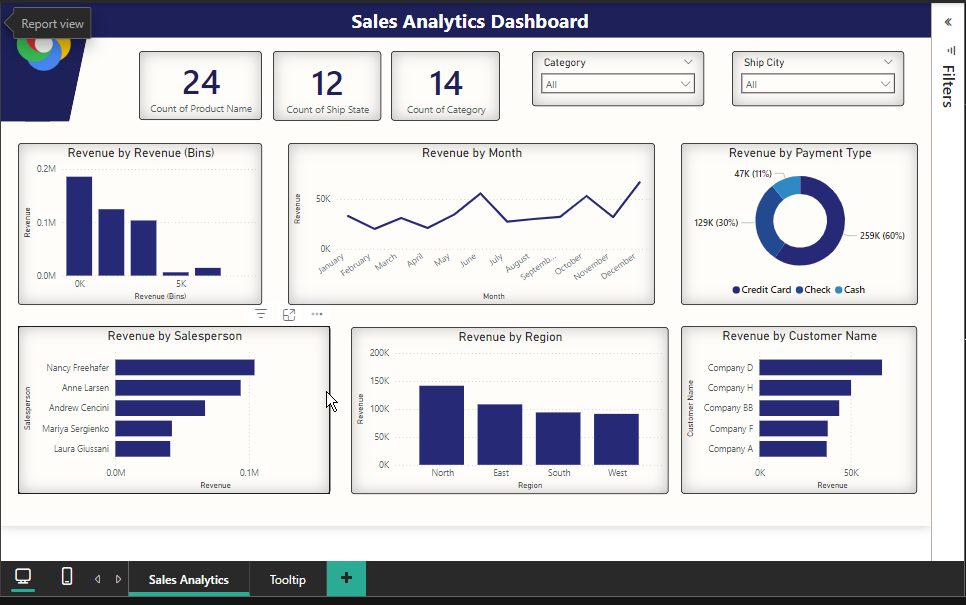

This screenshot's page, from the dashboard's own definition file:
{"tool":"powerbi","page":{"name":"Sales Analytics","canvas":[1280,720],"ordinal":0},"visuals":[{"type":"donutChart","fields":{"Category":["orders.Payment Type"],"Y":["Sum(orders.Revenue)"]},"box":[935.4,192.8,326.1,222.5],"z":1000},{"type":"clusteredBarChart","fields":{"Category":["orders.Salesperson"],"Y":["Sum(orders.Revenue)"]},"box":[23.8,445.1,429.6,230.9],"z":2000},{"type":"clusteredBarChart","fields":{"Category":["orders.Customer Name"],"Y":["Sum(orders.Revenue)"]},"box":[936.6,445.1,324.9,230.9],"z":3000},{"type":"clusteredColumnChart","fields":{"Category":["orders.Region"],"Y":["Sum(orders.Revenue)"]},"box":[482,446.3,436.8,229.7],"z":4000},{"type":"lineChart","fields":{"Category":["orders.Order Date.Variation.Date Hierarchy.Month"],"Y":["Sum(orders.Revenue)"]},"box":[395.1,192.8,504.6,222.5],"z":5000},{"type":"clusteredColumnChart","fields":{"Category":["orders.Revenue (Bins)"],"Y":["Sum(orders.Revenue)"]},"box":[23.8,192.8,335.6,222.5],"z":6000},{"type":"slicer","fields":{"Values":["orders.Ship City"]},"box":[1005.6,66.6,236.8,76.2],"z":8000},{"type":"card","fields":{"Values":["Count(orders.Product Name)"]},"box":[190.4,66.6,169,95.2],"z":9000},{"type":"card","fields":{"Values":["Count(orders.Category)"]},"box":[536.7,66.6,150,96.4],"z":10000},{"type":"card","fields":{"Values":["Count(orders.Ship State)"]},"box":[373.7,66.6,148.8,96.4],"z":11000},{"type":"shape","box":[0,0,1280.5,47.6],"z":12000},{"type":"shape","box":[33.3,45.2,85.7,117.8],"z":13000},{"type":"shape","box":[0,0,66.6,163],"z":14000},{"type":"image","box":[0,0,119,104.7],"z":15000},{"type":"textbox","box":[423.7,0,443.9,47.6],"z":15001},{"type":"slicer","fields":{"Values":["orders.Category"]},"box":[730.7,66.6,236.8,76.2],"z":15002}]}

Visuals, with their boxes on the page's 1280x720 design canvas (x1, y1, x2, y2). These are canvas units, not pixel positions in the 966x605 screenshot, which may show the page scaled, cropped or inside an application window:
donutChart - orders.Payment Type x Sum(orders.Revenue): l=935, t=193, r=1262, b=415
clusteredBarChart - orders.Salesperson x Sum(orders.Revenue): l=24, t=445, r=453, b=676
clusteredBarChart - orders.Customer Name x Sum(orders.Revenue): l=937, t=445, r=1262, b=676
clusteredColumnChart - orders.Region x Sum(orders.Revenue): l=482, t=446, r=919, b=676
lineChart - orders.Order Date.Variation.Date Hierarchy.Month x Sum(orders.Revenue): l=395, t=193, r=900, b=415
clusteredColumnChart - orders.Revenue (Bins) x Sum(orders.Revenue): l=24, t=193, r=359, b=415
slicer - orders.Ship City: l=1006, t=67, r=1242, b=143
card - Count(orders.Product Name): l=190, t=67, r=359, b=162
card - Count(orders.Category): l=537, t=67, r=687, b=163
card - Count(orders.Ship State): l=374, t=67, r=522, b=163
shape: l=0, t=0, r=1280, b=48
shape: l=33, t=45, r=119, b=163
shape: l=0, t=0, r=67, b=163
image: l=0, t=0, r=119, b=105
textbox: l=424, t=0, r=868, b=48
slicer - orders.Category: l=731, t=67, r=968, b=143
